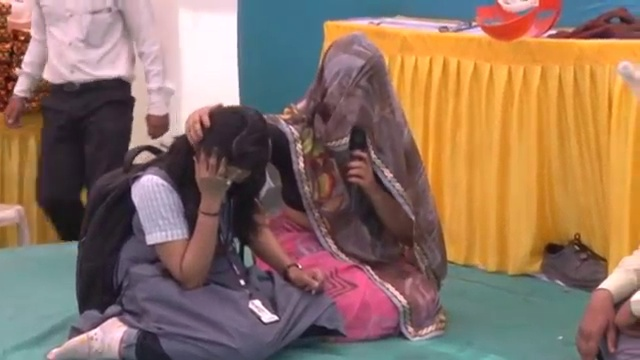helmet_off: (181, 108, 275, 198), (319, 42, 391, 144)
person: (48, 109, 345, 359), (269, 43, 447, 340), (6, 0, 172, 239)
